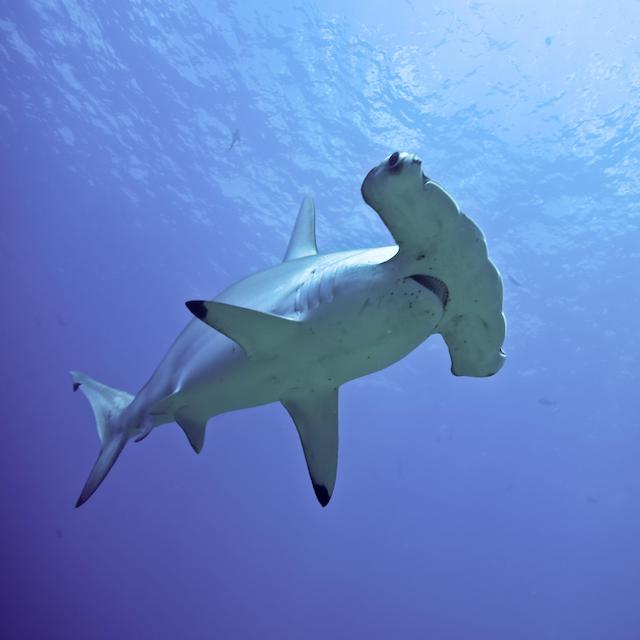hammerhead: (283, 143, 547, 423)
